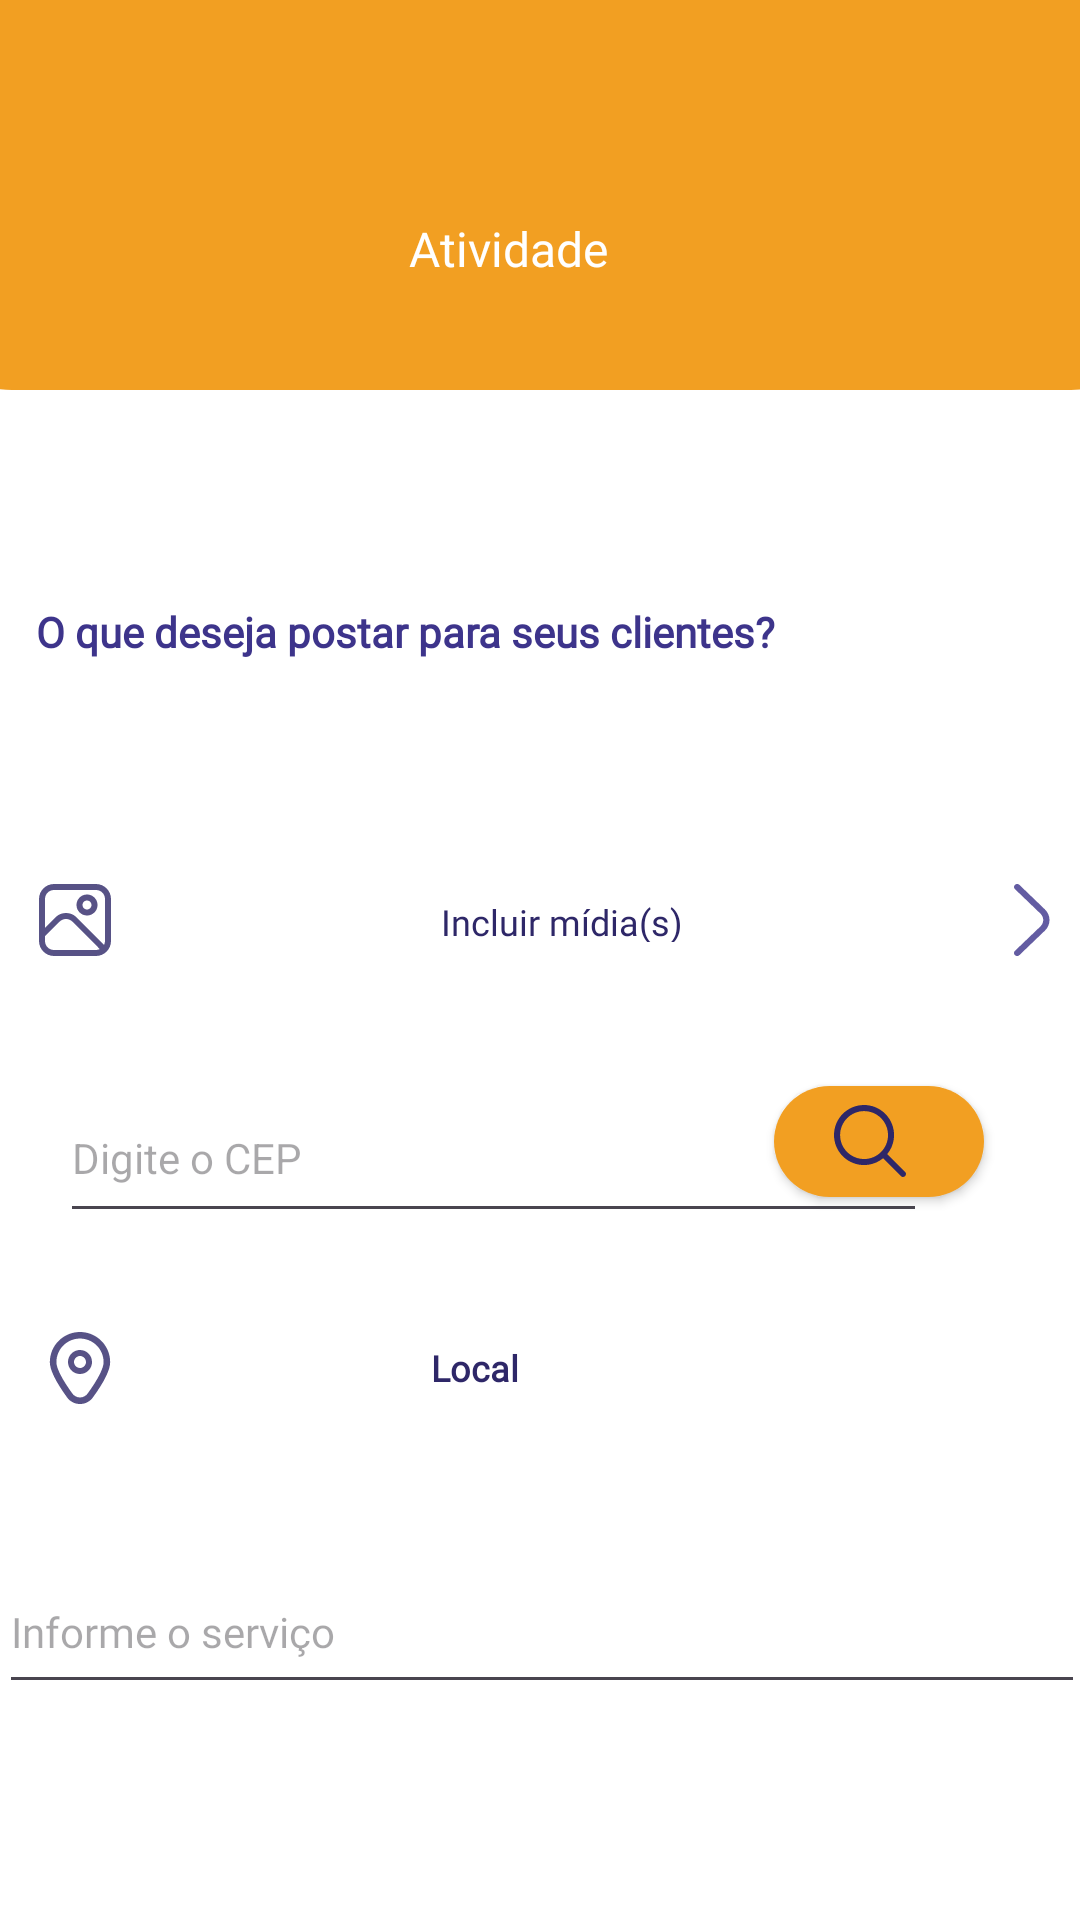

Screen size 1080*1920. Icon name, then its center in pixels as [x,y]:
search: [879,1141]
